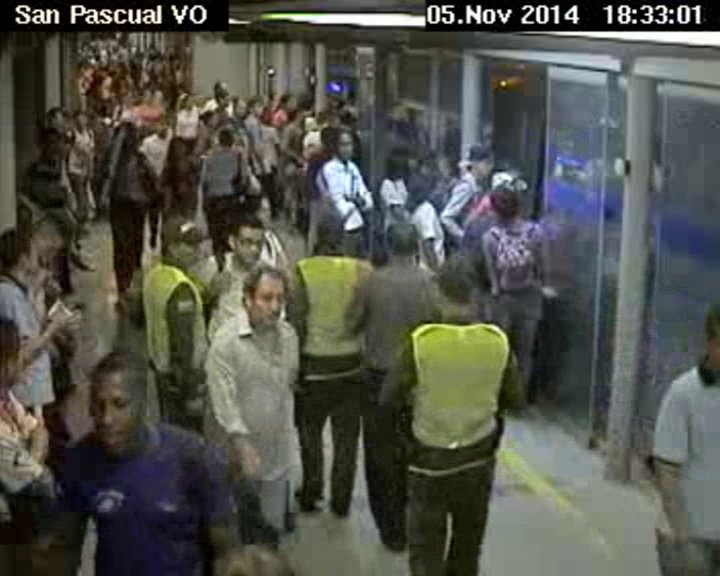person: (79, 351, 152, 458), (428, 258, 482, 329), (152, 212, 214, 273), (1, 315, 43, 404), (232, 266, 286, 323), (1, 226, 46, 283), (223, 216, 266, 266), (696, 294, 720, 375), (305, 213, 351, 253), (382, 218, 422, 262), (458, 139, 498, 179), (22, 155, 54, 204), (156, 129, 195, 164), (32, 122, 71, 155), (485, 186, 524, 219), (382, 143, 413, 182), (109, 115, 138, 151), (412, 170, 440, 207), (328, 128, 356, 160), (42, 106, 69, 130), (243, 93, 266, 121), (197, 107, 220, 129), (69, 107, 90, 130), (216, 128, 235, 149), (214, 88, 233, 108), (276, 91, 294, 112), (315, 107, 333, 127), (231, 94, 247, 115), (298, 96, 312, 118), (212, 81, 229, 96), (179, 94, 193, 112)
